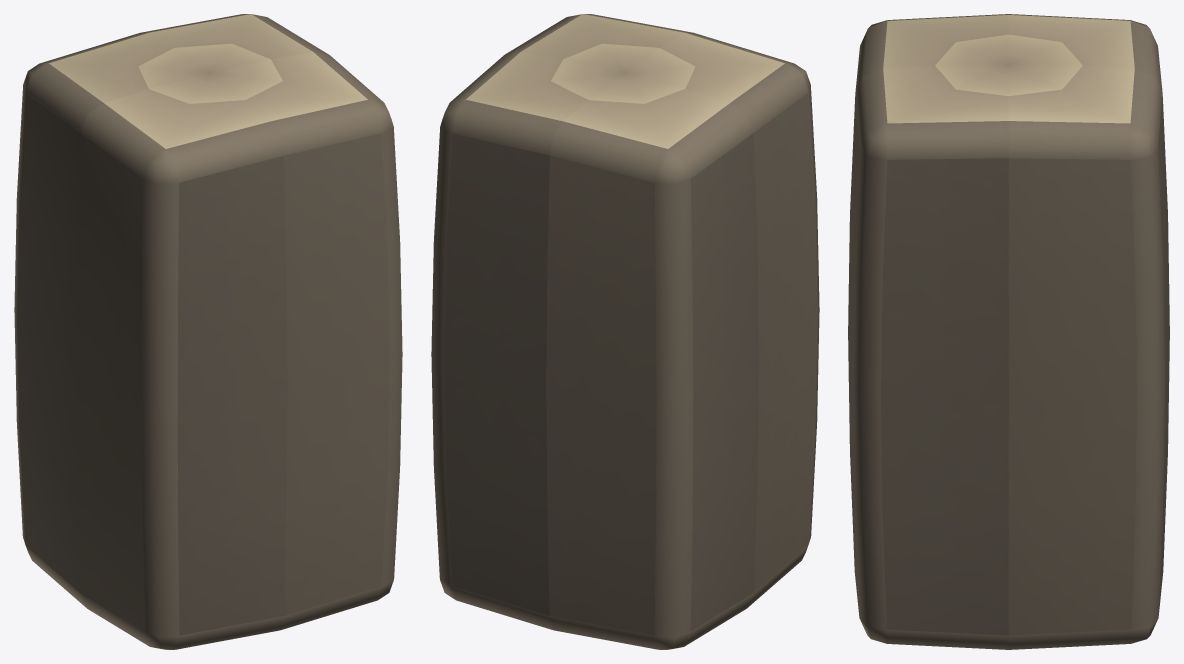
The model's file is DryWood_Branch_Straight.fbx.
The picture shows the model from 3 angles, left to right: view 1: azimuth 30°, elevation 25°; view 2: azimuth 150°, elevation 25°; view 3: azimuth 270°, elevation 25°; orthographic projection. The views are drawn at different scales.
Parts seen in each view (by area): view 1: DryWood_Branch_Straight_LOD0; view 2: DryWood_Branch_Straight_LOD0; view 3: DryWood_Branch_Straight_LOD0.
Boxes of the visible parts, left/top/right/bottom form: DryWood_Branch_Straight_LOD0: left=14, top=14, right=402, bottom=649; DryWood_Branch_Straight_LOD0: left=431, top=14, right=819, bottom=649; DryWood_Branch_Straight_LOD0: left=848, top=14, right=1169, bottom=649.
Size of what is drawn, in the model's own units: 0.5826 by 1.08 by 0.5858.
